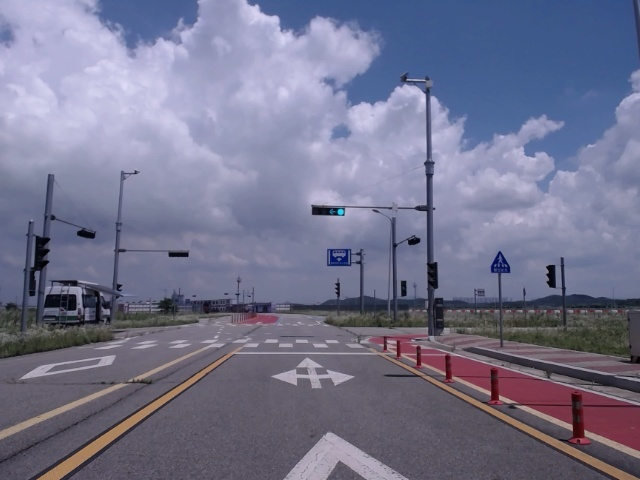all_green_4: (316, 206, 343, 216)
